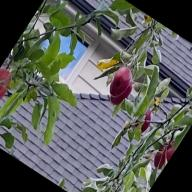Apples: (104, 64, 136, 99), (150, 139, 178, 171), (107, 78, 135, 108), (129, 106, 157, 136), (0, 66, 16, 108)
